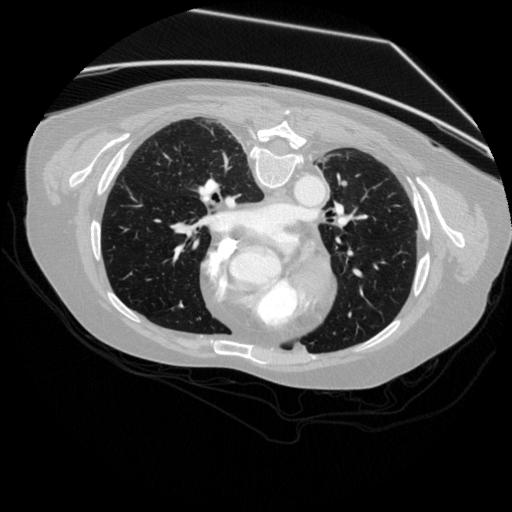nodule: (337, 178, 350, 191)
